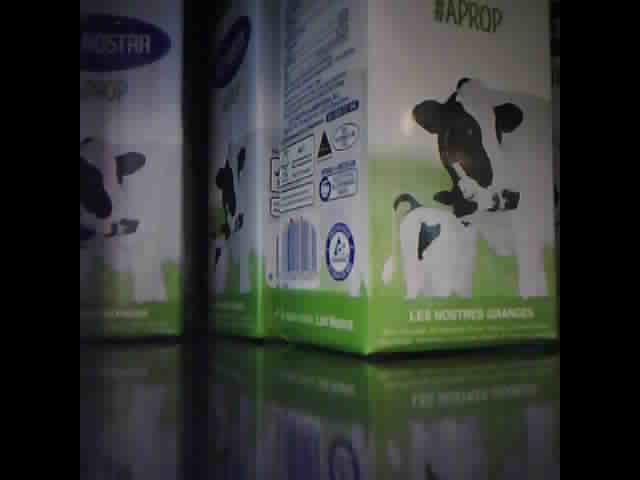leche: (277, 1, 550, 359), (80, 4, 190, 338), (206, 4, 266, 334)
